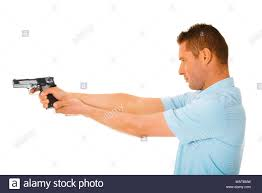gun: (10, 76, 60, 111)
